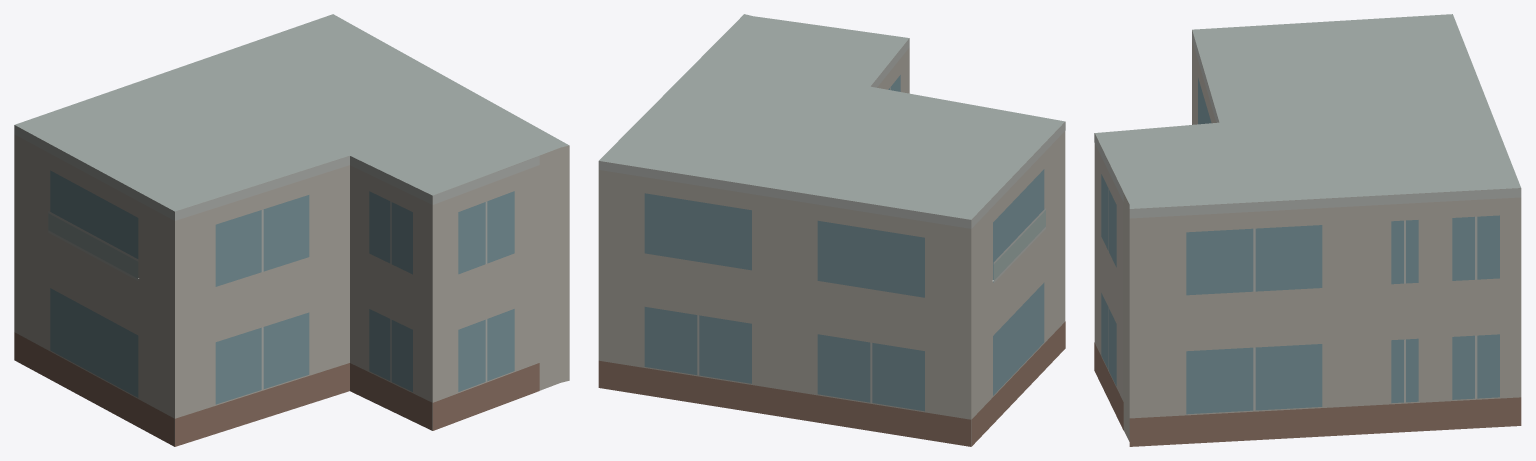
The model's file is survey-upis-32559334.glb.
The picture shows the model from 3 angles, left to right: view 1: azimuth 30°, elevation 25°; view 2: azimuth 150°, elevation 25°; view 3: azimuth 270°, elevation 25°; orthographic projection. The views are drawn at different scales.
Visible parts, largest first — view 1: survey-upis-32559334.tmp; view 2: survey-upis-32559334.tmp; view 3: survey-upis-32559334.tmp.
Boxes of the visible parts, x1,y1,x2,y2 form: survey-upis-32559334.tmp: (14,14,569,446); survey-upis-32559334.tmp: (598,14,1065,446); survey-upis-32559334.tmp: (1094,14,1521,446).
Bounding box in the file's own units: 10.74 × 6.1 × 9.93.
